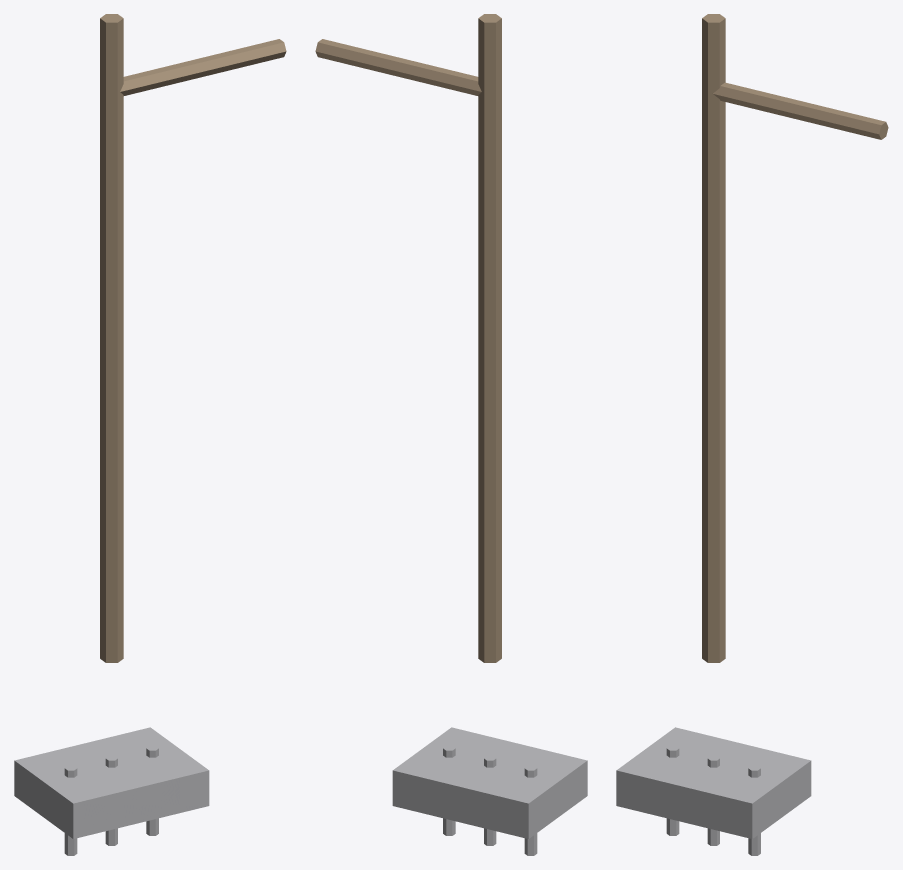
The model's file is aerator_manual.glb.
The picture shows the model from 3 angles, left to right: view 1: azimuth 30°, elevation 25°; view 2: azimuth 150°, elevation 25°; view 3: azimuth 330°, elevation 25°; orthographic projection.
Parts seen in each view (by area): view 1: AeratorManual; view 2: AeratorManual; view 3: AeratorManual.
Boxes of the visible parts, bbox=[...] form: AeratorManual: bbox=[14, 14, 286, 855]; AeratorManual: bbox=[315, 14, 587, 855]; AeratorManual: bbox=[616, 14, 888, 855].
Bounding box in the file's own units: 0.35 × 1.16 × 0.15.
